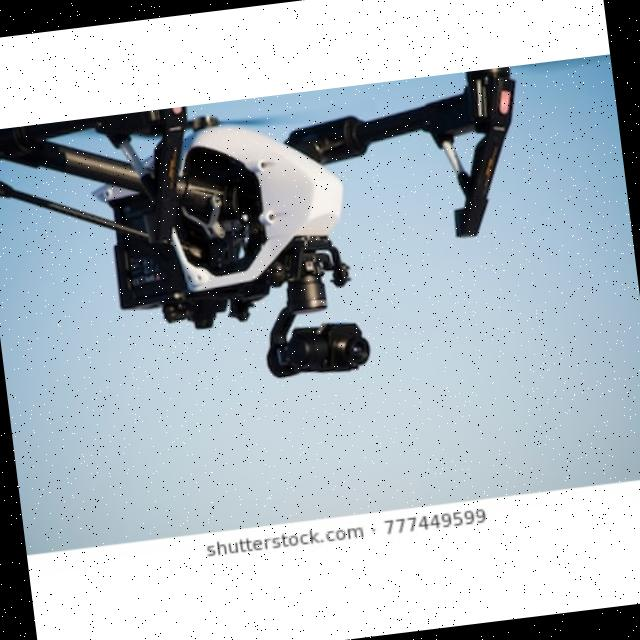Drones: (0, 74, 552, 350)
